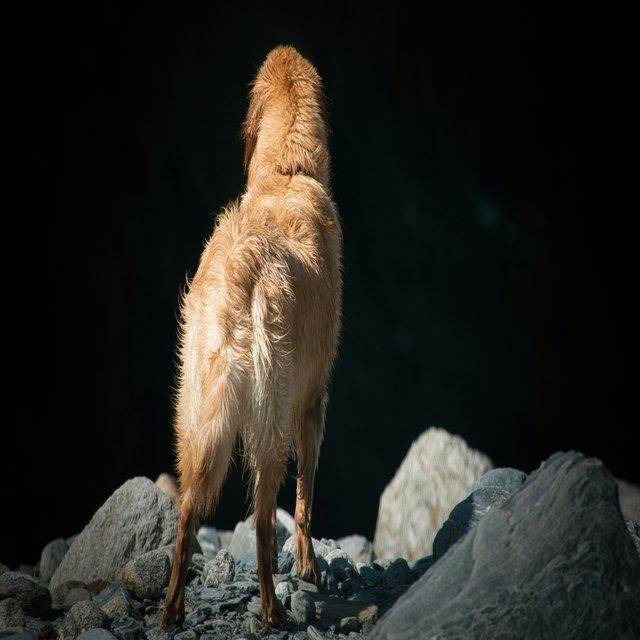retriever: (157, 43, 344, 630)
